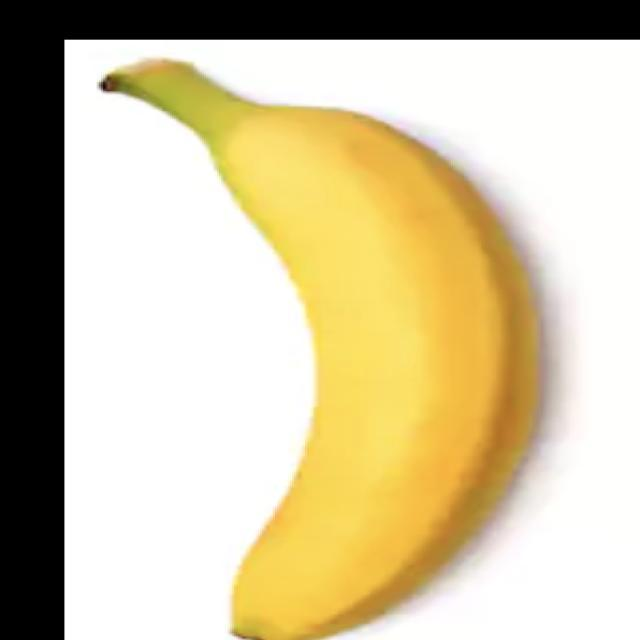Banana: (97, 55, 541, 639)
